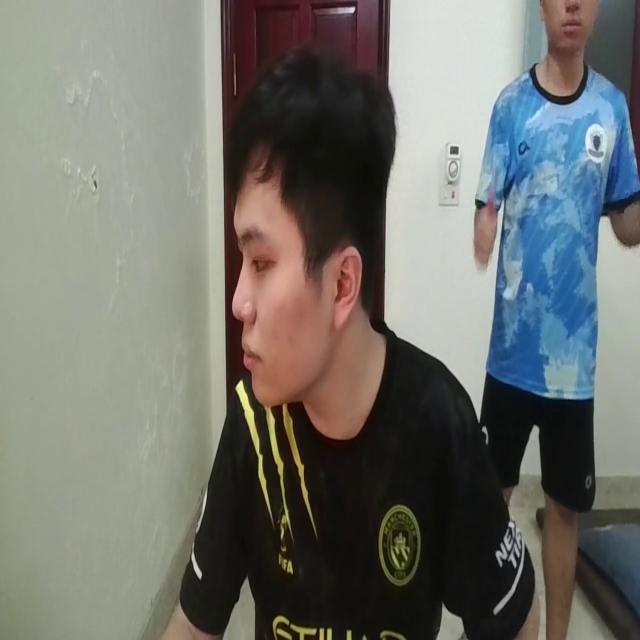extra_person: (473, 2, 640, 640)
student: (153, 59, 547, 640)
